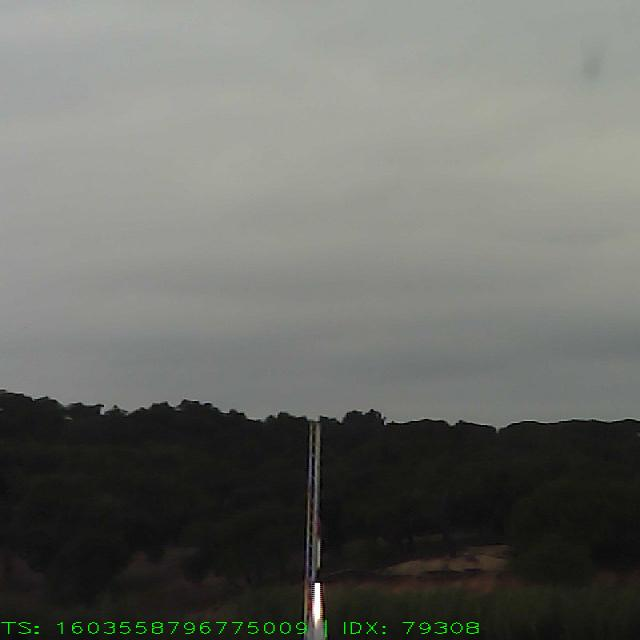Rocket: (314, 519, 326, 583)
